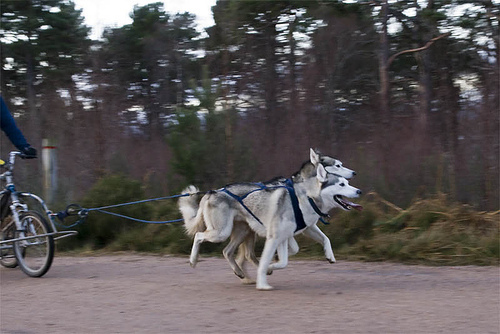dog: (181, 164, 361, 290), (221, 143, 358, 286)
